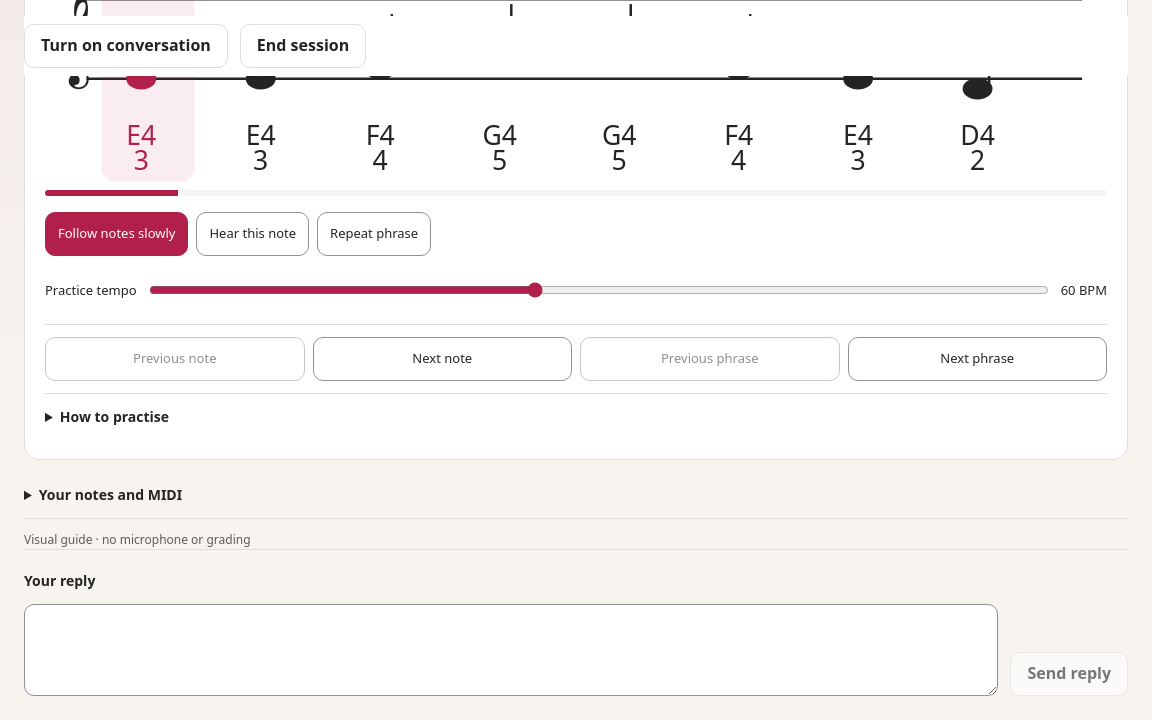
Test case: guided teacher session › keeps real-piano practice usable after an uncertain chat failure and visible after ending
(page scrolled)
Check: the button "Next note" is enabled, box [312,337,572,381]
Type "Help me with this note" into the text box labelled "Your reply".
click(511, 650); type("Help me with this note")  # box [24,604,998,696]
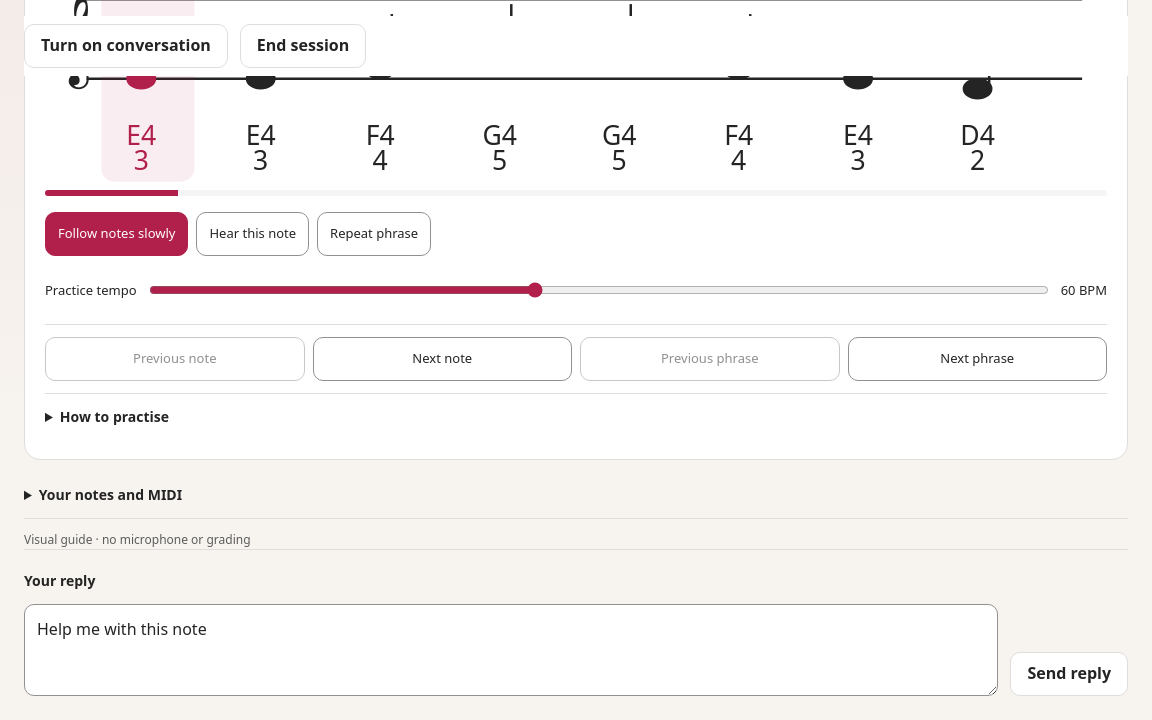
Click the button "Send reply".
click(1069, 674)  # box [1010,652,1128,696]
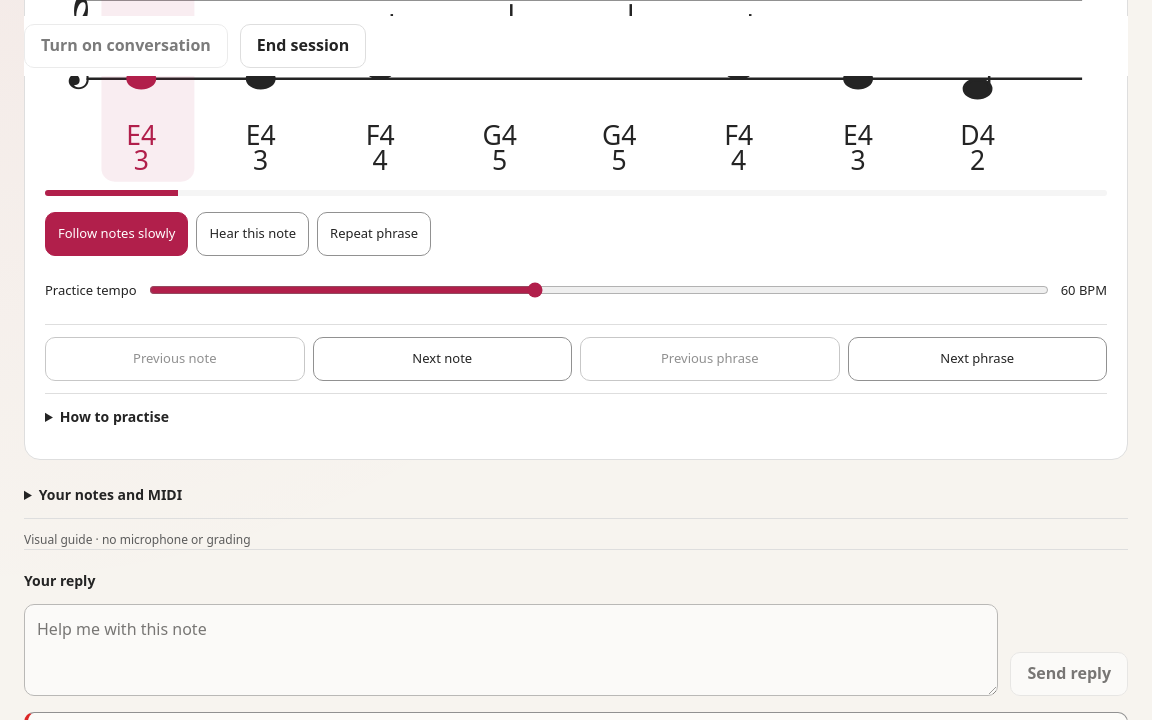
Check: the button "Send reply" is disabled, box [1010,652,1128,696]
Click the button "Next note".
click(442, 359)  # box [312,337,572,381]
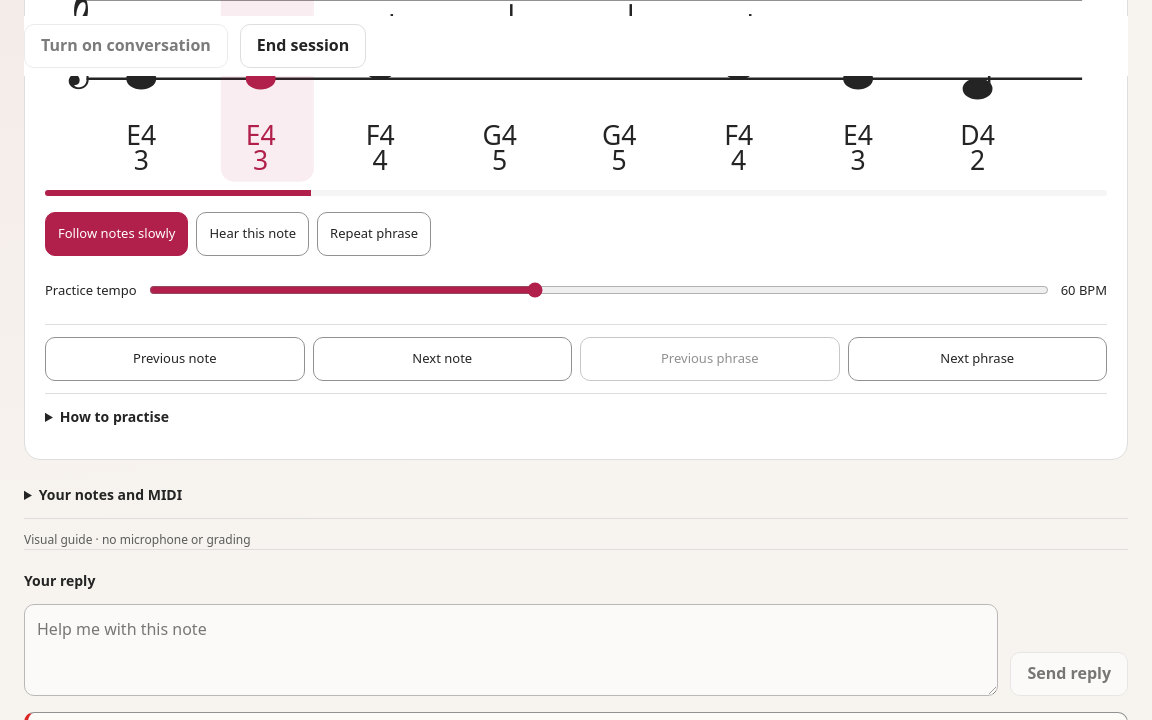
Click the button "End session".
click(303, 46)  # box [240,24,366,68]
(page scrolled)
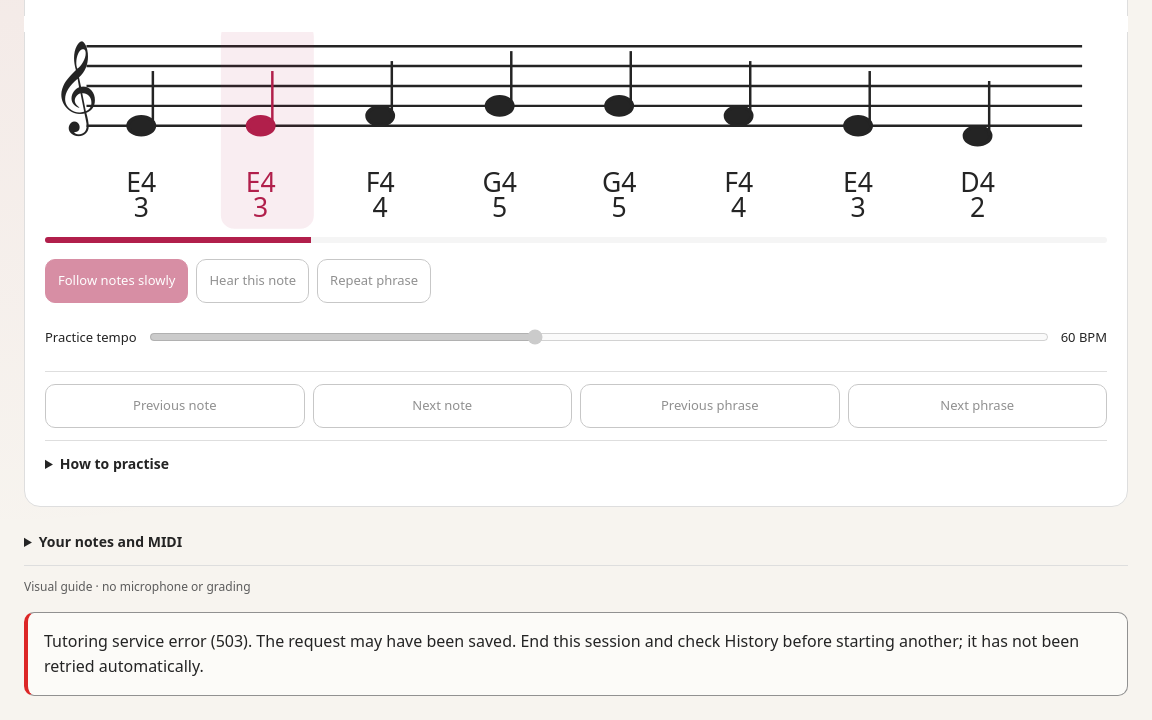
Check: the picture named "Treble staff: note names and beat lengths:" is shown, box [45,3,1107,229]
Check: the button "Next note" is disabled, box [312,384,572,428]
